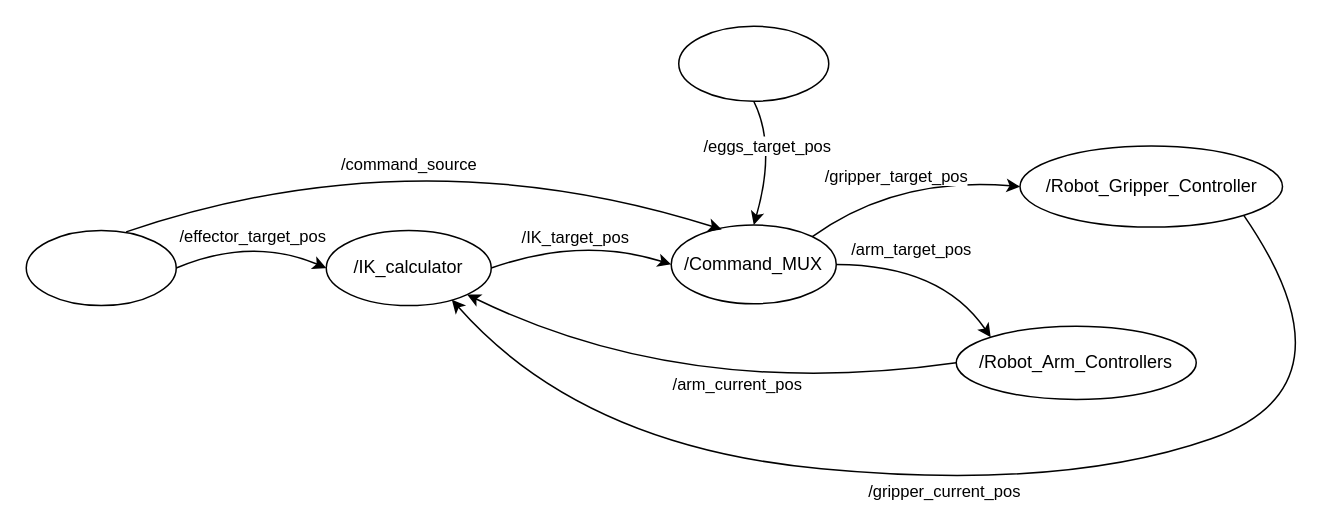
This 1323x528 diagram has some shape labels left out. The shapes that lost their labels are listed below. From the top down, each one's centre as x and y in pixels, then its label:
pixel 753 63: /receive_eggs
pixel 100 267: /receive_OSC
